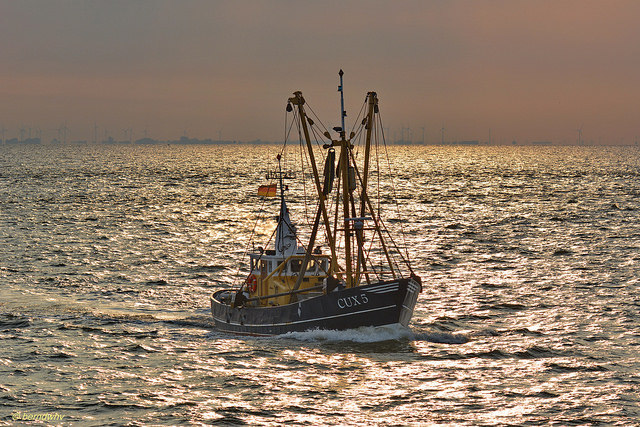fishing_boat: (205, 75, 424, 342)
